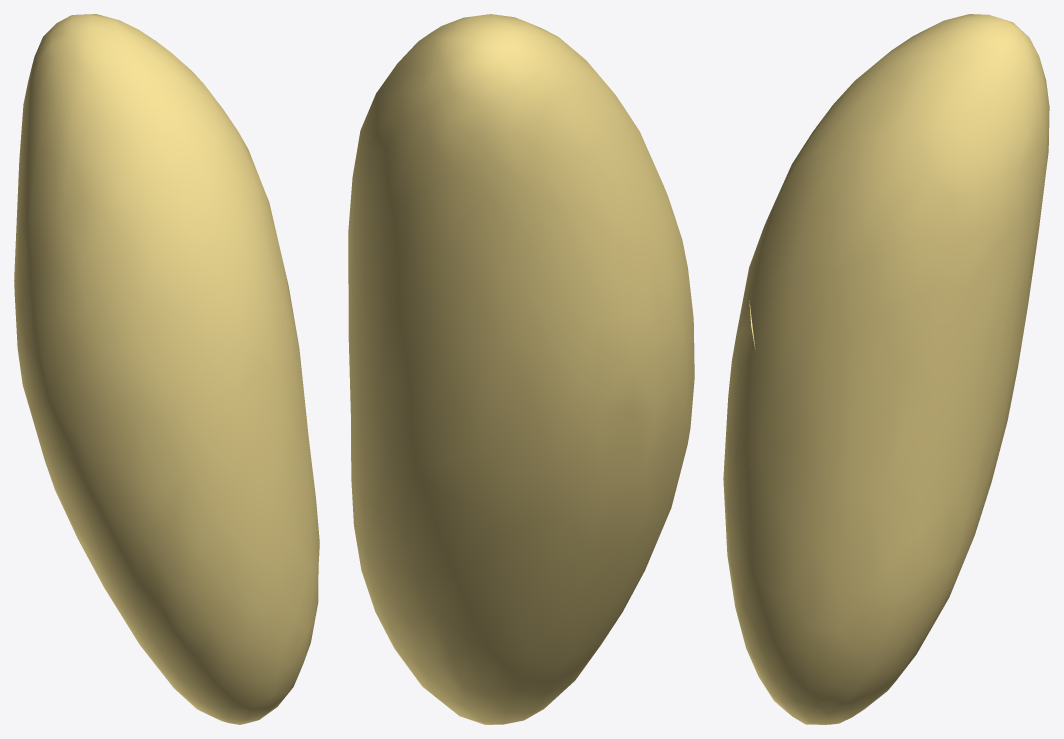
Rendered from fma53556_mm2601.glb.
The picture shows the model from 3 angles, left to right: view 1: azimuth 30°, elevation 25°; view 2: azimuth 150°, elevation 25°; view 3: azimuth 270°, elevation 25°; orthographic projection. The views are drawn at different scales.
Parts seen in each view (by area): view 1: FMA53556_MM2601; view 2: FMA53556_MM2601; view 3: FMA53556_MM2601.
Boxes of the visible parts, x1=… form: FMA53556_MM2601: x1=14, y1=14, x2=319, y2=724; FMA53556_MM2601: x1=348, y1=14, x2=694, y2=724; FMA53556_MM2601: x1=723, y1=14, x2=1049, y2=724.
Bounding box in the file's own units: 0.00369 × 0.00897 × 0.00398.
